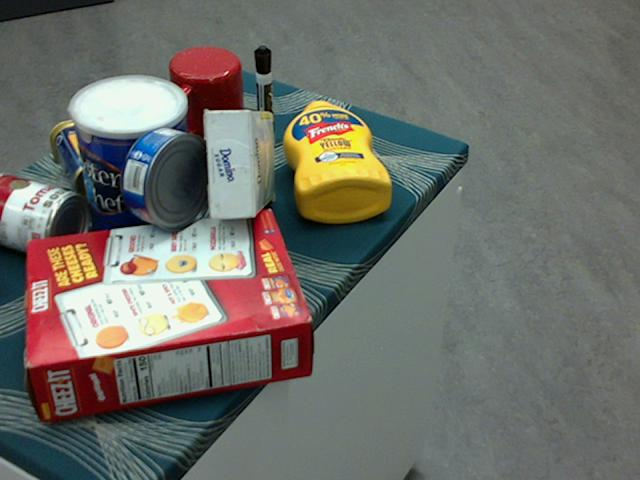cracker_box: (28, 209, 312, 420)
large_marker: (254, 45, 272, 149)
master_chef_can: (70, 77, 193, 259)
mug: (167, 47, 248, 146)
mustard_bottle: (283, 99, 392, 222)
potted_meat_can: (49, 109, 168, 203)
sugar_box: (207, 110, 272, 219)
tomato_soup_can: (0, 169, 88, 261)
tuna_fish_can: (120, 126, 216, 229)
